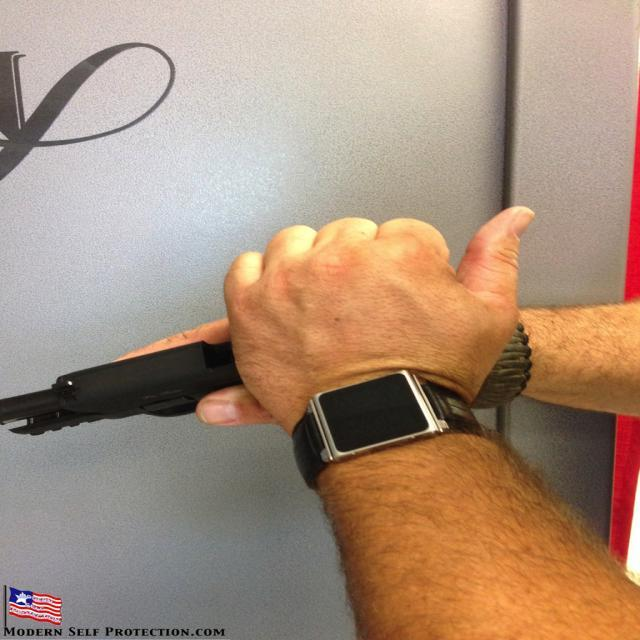weapon: (24, 300, 314, 438)
